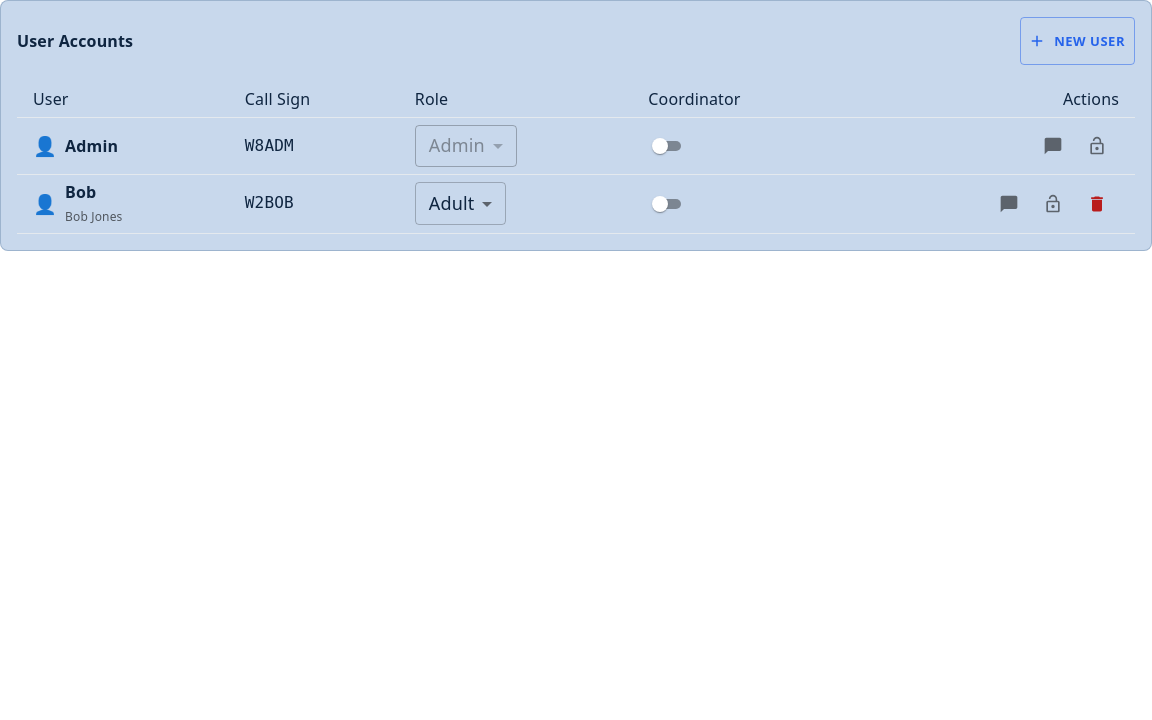
Test case: UsersPanel › closes the dialog when Cancel is clicked
The image size is (1152, 720).
Click the button "New User".
click(1078, 41)  # box [1020,17,1135,65]
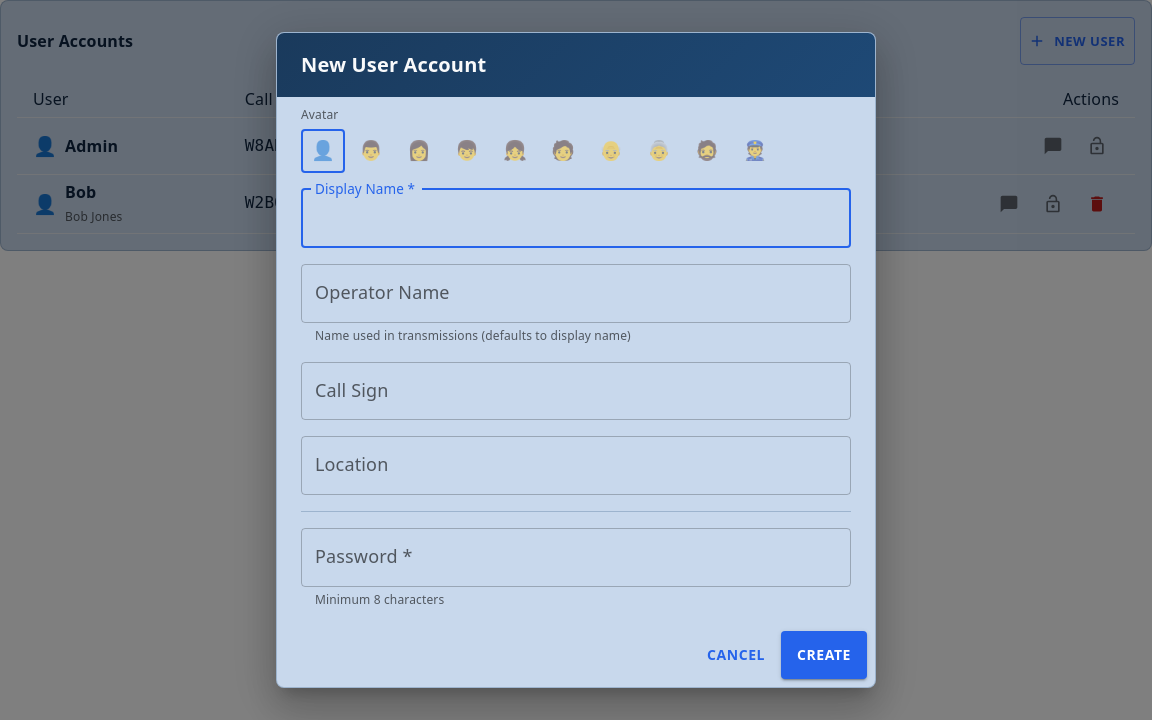
Expected: the heading "New User Account" is shown, [277,33,875,97]
Click the button "Cancel".
click(736, 655)  # box [699,631,773,679]
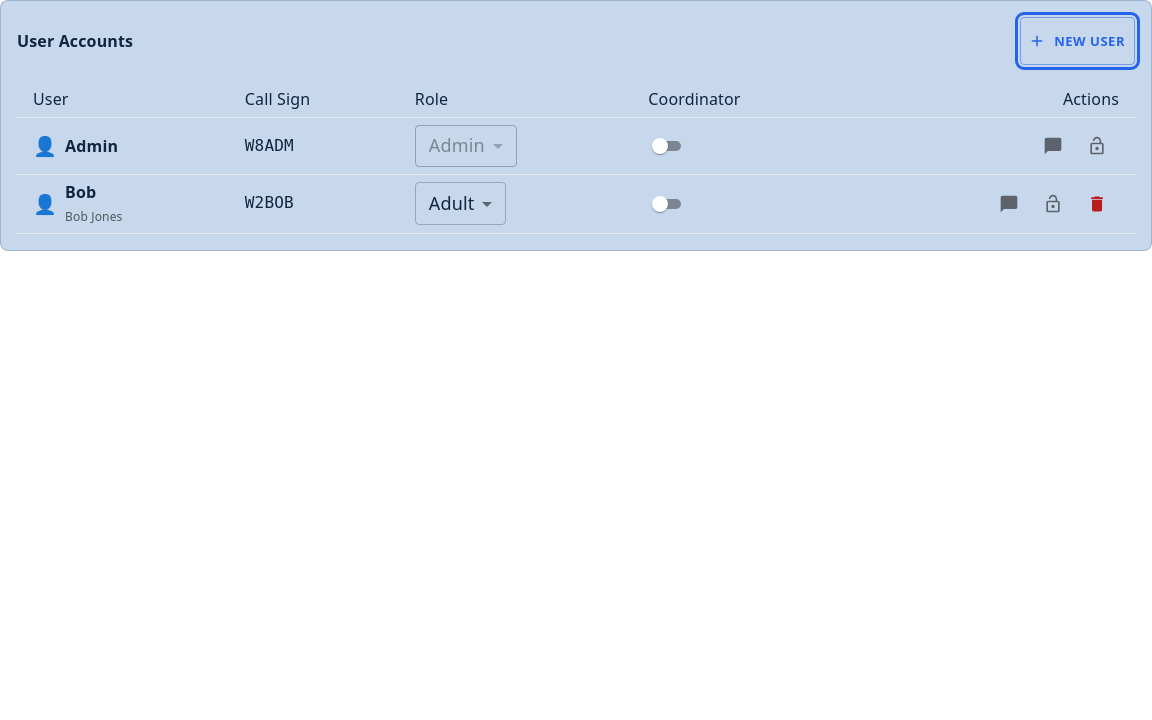
Expected: the heading "New User Account" is gone
